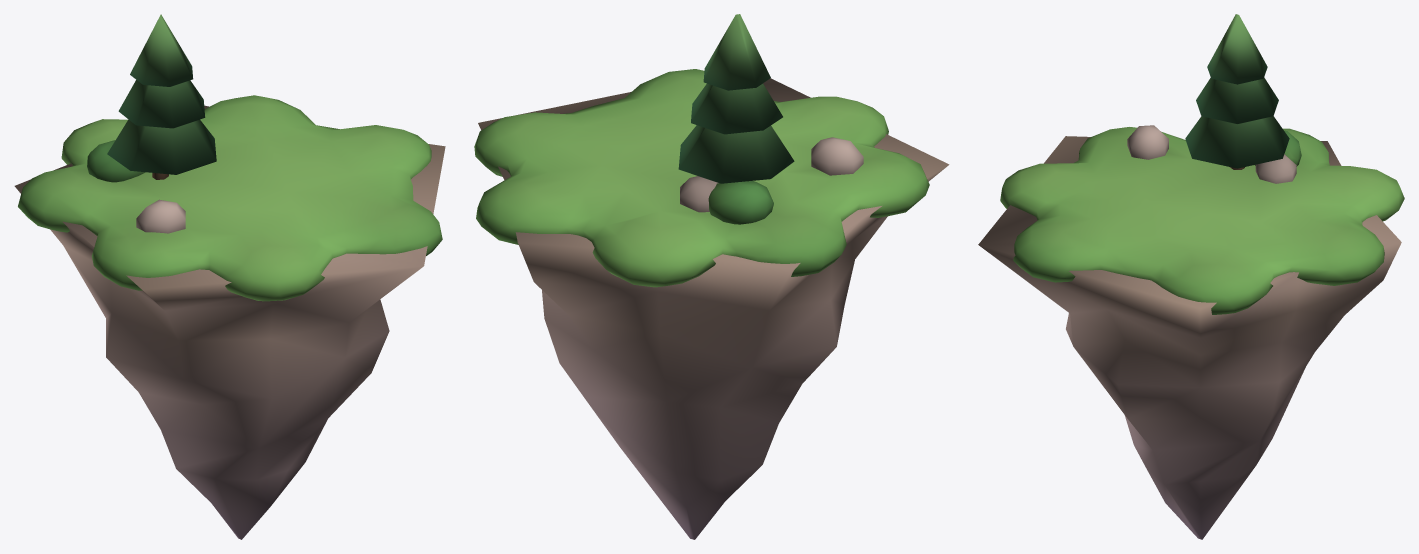
The model's file is env_sky_islet_1_lite.glb.
3 renders of one model, left to right at view 1: azimuth 30°, elevation 25°; view 2: azimuth 150°, elevation 25°; view 3: azimuth 270°, elevation 25°, orthographic. The views are drawn at different scales.
Visible parts, largest first — view 1: SM_sky_sky_vc_x0_z0.027; view 2: SM_sky_sky_vc_x0_z0.027; view 3: SM_sky_sky_vc_x0_z0.027.
Boxes of the visible parts, x1,y1,x2,y2 form: SM_sky_sky_vc_x0_z0.027: [14, 14, 445, 539]; SM_sky_sky_vc_x0_z0.027: [474, 14, 949, 539]; SM_sky_sky_vc_x0_z0.027: [978, 14, 1404, 539].
Size of the model in its own units: 7.48 by 9.82 by 7.65.
